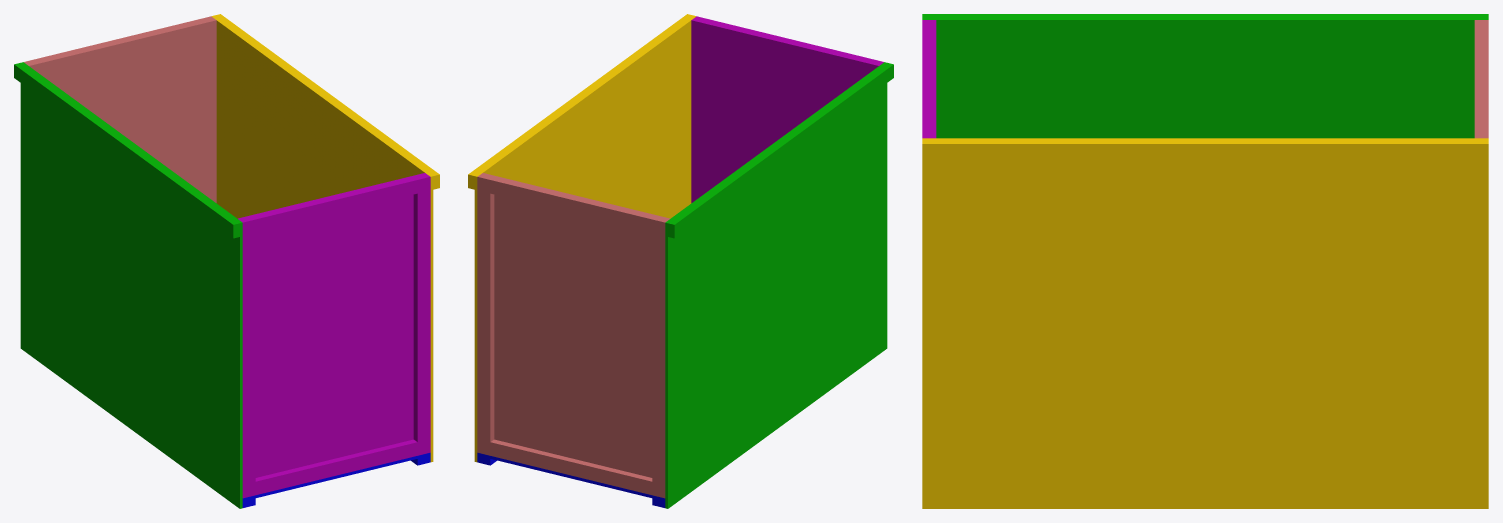
File: result.glb
3 views of the same model, side by side, from view 1: azimuth 30°, elevation 25°; view 2: azimuth 150°, elevation 25°; view 3: azimuth 270°, elevation 25° (orthographic). The views are drawn at different scales.
Parts seen in each view (by area): view 1: 760acb1b-0f33-4042-a778-411239b13226__Box_6, 679c0522-574e-4e35-b4c9-a678a25cc179__Box_3, 11991d4a-b855-48d1-8b20-9857a6f94a1d__undefined, f466122a-a9ba-4f5f-b020-d1154832c9ff__undefined, f26ae22a-7d90-40a3-802f-bc3fcb0a368e__undefined, d0dfb5d1-4641-44d4-b2b1-39c348395bd9__Box_7, c8640d64-58bb-409b-ad55-4bc6aa4d5dab__Box_4, 2627af06-66de-474c-87a0-0c5e49883397__undefined, 6af3c4a0-0402-4f34-9220-29f3e5d7caf3__Box_5, 22e159f1-3486-4a3b-92e4-efe26518b797__undefined, 8e417fa2-fc55-4a8e-b945-f03dc68907ca__undefined, ed02fe88-6e12-4054-8aae-bd00832872bc__Box; view 2: 760acb1b-0f33-4042-a778-411239b13226__Box_6, f466122a-a9ba-4f5f-b020-d1154832c9ff__undefined, 11991d4a-b855-48d1-8b20-9857a6f94a1d__undefined, 679c0522-574e-4e35-b4c9-a678a25cc179__Box_3, da9bd67a-2350-4fa6-8441-c1035f67a177__undefined, d0dfb5d1-4641-44d4-b2b1-39c348395bd9__Box_7, 2ede274f-c725-4970-b61b-39dcdd1397db__undefined, 8e417fa2-fc55-4a8e-b945-f03dc68907ca__undefined, b6b0a35c-6152-455a-9d10-a8ea7b6f1e7e__undefined, 22e159f1-3486-4a3b-92e4-efe26518b797__undefined, 2627af06-66de-474c-87a0-0c5e49883397__undefined, ed02fe88-6e12-4054-8aae-bd00832872bc__Box; view 3: 11991d4a-b855-48d1-8b20-9857a6f94a1d__undefined, 760acb1b-0f33-4042-a778-411239b13226__Box_6, 22e159f1-3486-4a3b-92e4-efe26518b797__undefined, d0dfb5d1-4641-44d4-b2b1-39c348395bd9__Box_7, 2627af06-66de-474c-87a0-0c5e49883397__undefined, 8e417fa2-fc55-4a8e-b945-f03dc68907ca__undefined.
Boxes of the visible parts, <box> form: 760acb1b-0f33-4042-a778-411239b13226__Box_6: <box>20,62,242,508</box>; 679c0522-574e-4e35-b4c9-a678a25cc179__Box_3: <box>238,173,425,477</box>; 11991d4a-b855-48d1-8b20-9857a6f94a1d__undefined: <box>211,15,433,462</box>; f466122a-a9ba-4f5f-b020-d1154832c9ff__undefined: <box>27,19,216,202</box>; f26ae22a-7d90-40a3-802f-bc3fcb0a368e__undefined: <box>413,174,430,455</box>; d0dfb5d1-4641-44d4-b2b1-39c348395bd9__Box_7: <box>14,63,239,238</box>; c8640d64-58bb-409b-ad55-4bc6aa4d5dab__Box_4: <box>239,217,255,498</box>; 2627af06-66de-474c-87a0-0c5e49883397__undefined: <box>252,177,417,232</box>; 6af3c4a0-0402-4f34-9220-29f3e5d7caf3__Box_5: <box>255,439,417,494</box>; 22e159f1-3486-4a3b-92e4-efe26518b797__undefined: <box>214,14,439,189</box>; 8e417fa2-fc55-4a8e-b945-f03dc68907ca__undefined: <box>37,19,201,61</box>; ed02fe88-6e12-4054-8aae-bd00832872bc__Box: <box>242,452,430,501</box>; 760acb1b-0f33-4042-a778-411239b13226__Box_6: <box>665,62,887,508</box>; f466122a-a9ba-4f5f-b020-d1154832c9ff__undefined: <box>482,173,669,477</box>; 11991d4a-b855-48d1-8b20-9857a6f94a1d__undefined: <box>474,15,696,462</box>; 679c0522-574e-4e35-b4c9-a678a25cc179__Box_3: <box>691,19,880,202</box>; da9bd67a-2350-4fa6-8441-c1035f67a177__undefined: <box>477,174,494,455</box>; d0dfb5d1-4641-44d4-b2b1-39c348395bd9__Box_7: <box>668,63,893,238</box>; 2ede274f-c725-4970-b61b-39dcdd1397db__undefined: <box>652,217,668,498</box>; 8e417fa2-fc55-4a8e-b945-f03dc68907ca__undefined: <box>490,177,655,232</box>; b6b0a35c-6152-455a-9d10-a8ea7b6f1e7e__undefined: <box>490,439,652,494</box>; 22e159f1-3486-4a3b-92e4-efe26518b797__undefined: <box>468,14,693,189</box>; 2627af06-66de-474c-87a0-0c5e49883397__undefined: <box>706,19,870,61</box>; ed02fe88-6e12-4054-8aae-bd00832872bc__Box: <box>477,452,665,501</box>; 11991d4a-b855-48d1-8b20-9857a6f94a1d__undefined: <box>922,138,1488,508</box>; 760acb1b-0f33-4042-a778-411239b13226__Box_6: <box>922,18,1488,138</box>; 22e159f1-3486-4a3b-92e4-efe26518b797__undefined: <box>922,140,1488,161</box>; d0dfb5d1-4641-44d4-b2b1-39c348395bd9__Box_7: <box>922,14,1488,17</box>; 2627af06-66de-474c-87a0-0c5e49883397__undefined: <box>922,28,931,129</box>; 8e417fa2-fc55-4a8e-b945-f03dc68907ca__undefined: <box>1479,28,1488,129</box>.
Size of the model in its own units: 572 by 756 by 1052.
